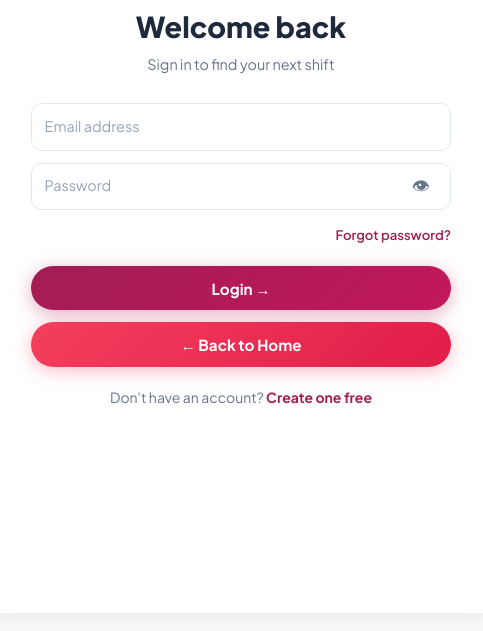
Test case: LoginPage › shows validation error when submitting empty fields
What coordinates should you click on to do the following:
click the button "Login →"
I would click on:
 (241, 288)
Its box is [31, 266, 451, 310].
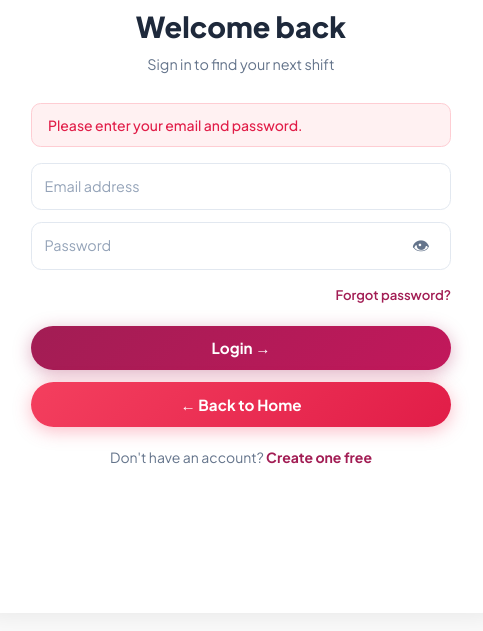
Expected: the text "Please enter your email and password." is shown, [31, 103, 451, 147]
